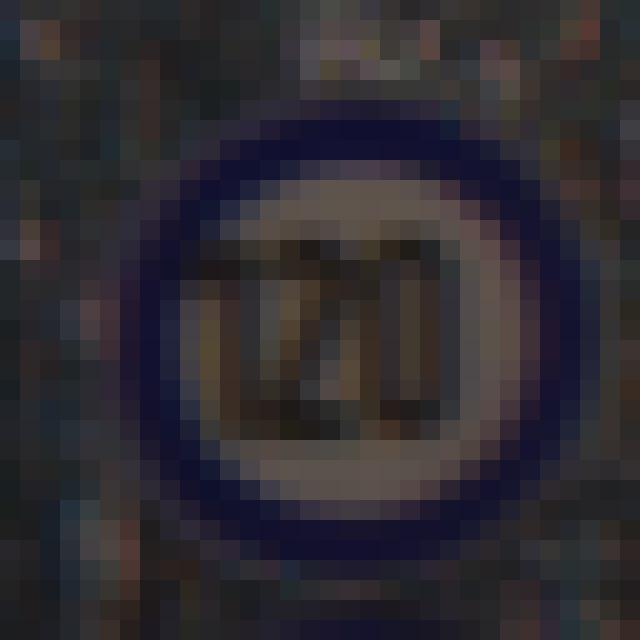SPEED LIMIT 120: (107, 97, 581, 563)
